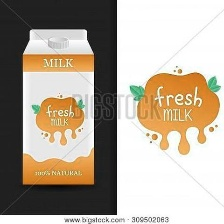carton: (14, 25, 100, 188)
